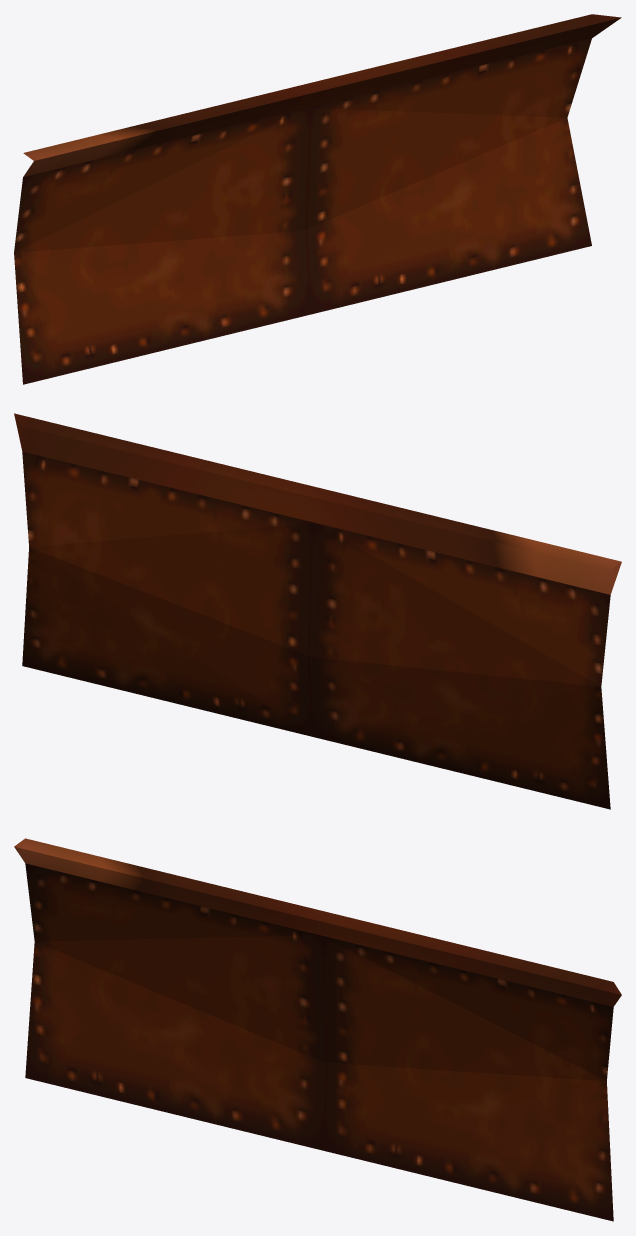
File: W_A2r_xxxx [Rostig]_364.glb
3 views of the same model, one above another, from view 1: azimuth 30°, elevation 25°; view 2: azimuth 150°, elevation 25°; view 3: azimuth 330°, elevation 25° (orthographic). The views are drawn at different scales.
Visible parts, largest first — view 1: polySurfaceShape787, polySurfaceShape1065; view 2: polySurfaceShape787, polySurfaceShape1065; view 3: polySurfaceShape787, polySurfaceShape1065.
Part boxes in pixels (left/top/right/bottom): polySurfaceShape787: left=14, top=38, right=591, bottom=384; polySurfaceShape1065: left=23, top=14, right=621, bottom=176; polySurfaceShape787: left=22, top=451, right=610, bottom=809; polySurfaceShape1065: left=14, top=413, right=621, bottom=594; polySurfaceShape787: left=25, top=863, right=613, bottom=1221; polySurfaceShape1065: left=14, top=838, right=621, bottom=1006.
Size of the model in its own units: 1.03 by 0.3891 by 0.0607.
2 materials, 2 textured.
